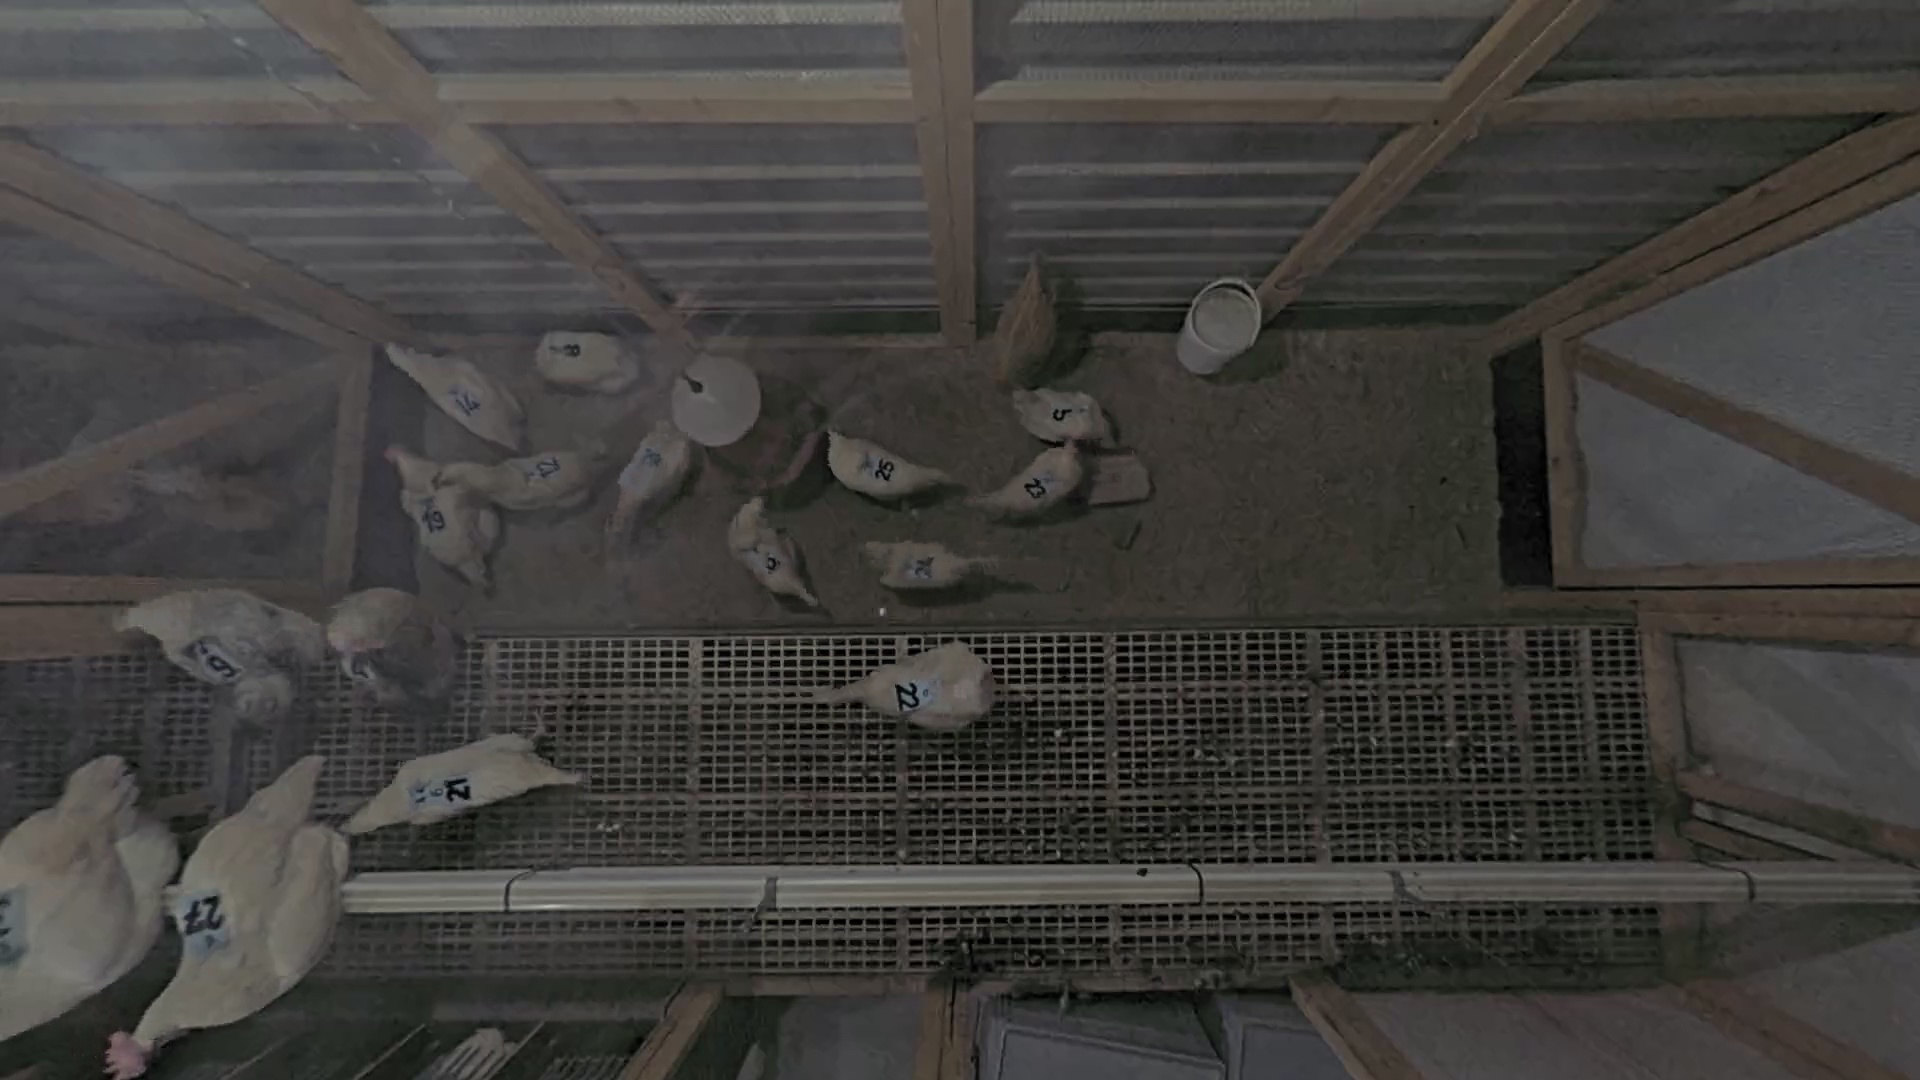hen: (105, 756, 348, 1079), (0, 756, 177, 1039), (115, 589, 324, 727), (342, 735, 582, 833), (327, 588, 458, 711), (814, 642, 992, 731), (401, 485, 498, 589), (728, 497, 819, 607), (607, 421, 692, 537), (827, 430, 955, 501), (965, 442, 1083, 516), (861, 541, 1004, 591), (1013, 389, 1108, 444)
